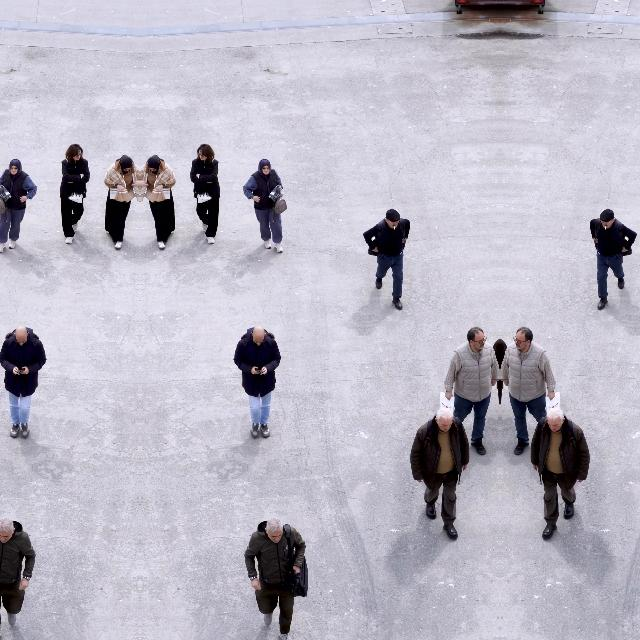person: (410, 408, 470, 540), (530, 408, 590, 540), (244, 518, 306, 640), (444, 326, 500, 456), (500, 326, 556, 456), (232, 326, 282, 439), (0, 326, 47, 439), (363, 208, 411, 310), (589, 208, 637, 310), (0, 518, 36, 640), (242, 158, 284, 254), (0, 158, 37, 253), (140, 154, 176, 250), (104, 154, 140, 250), (190, 143, 220, 245), (60, 143, 90, 245), (492, 338, 500, 406), (500, 338, 508, 406)
